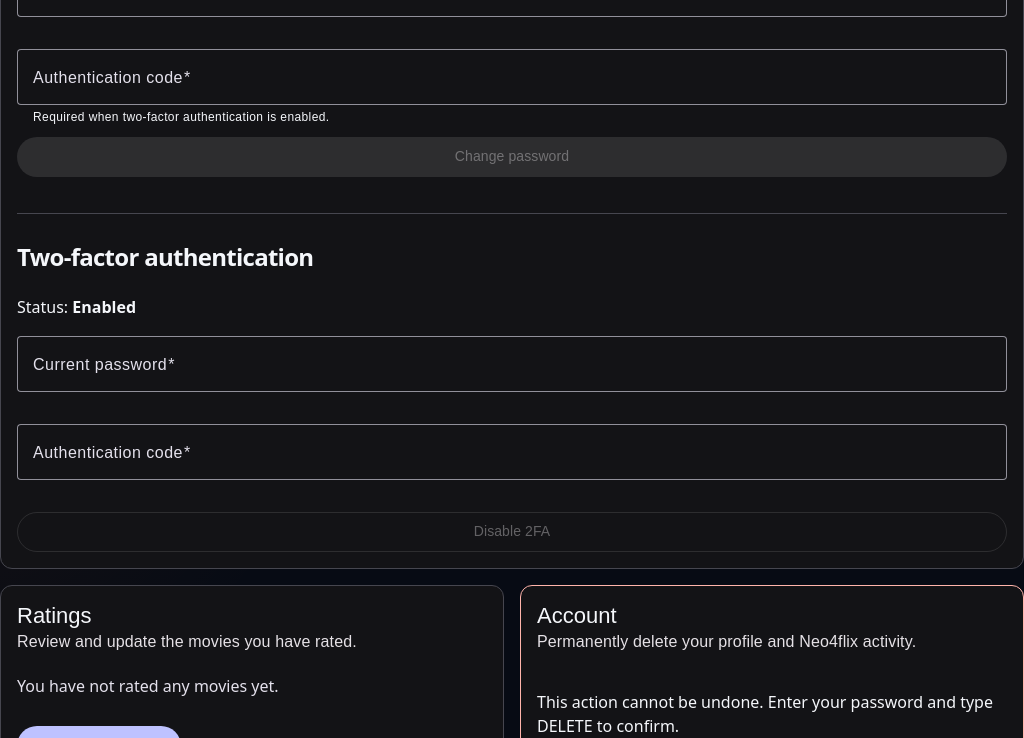
Test case: ProfileComponent › renders TOTP disable API failures in the security error region
The width and height of the screenshot is (1024, 738).
(page scrolled)
Type "Password1!" into the password field with test id "disable-password" at {"x": 512, "y": 364}, box [33,352,991,376]
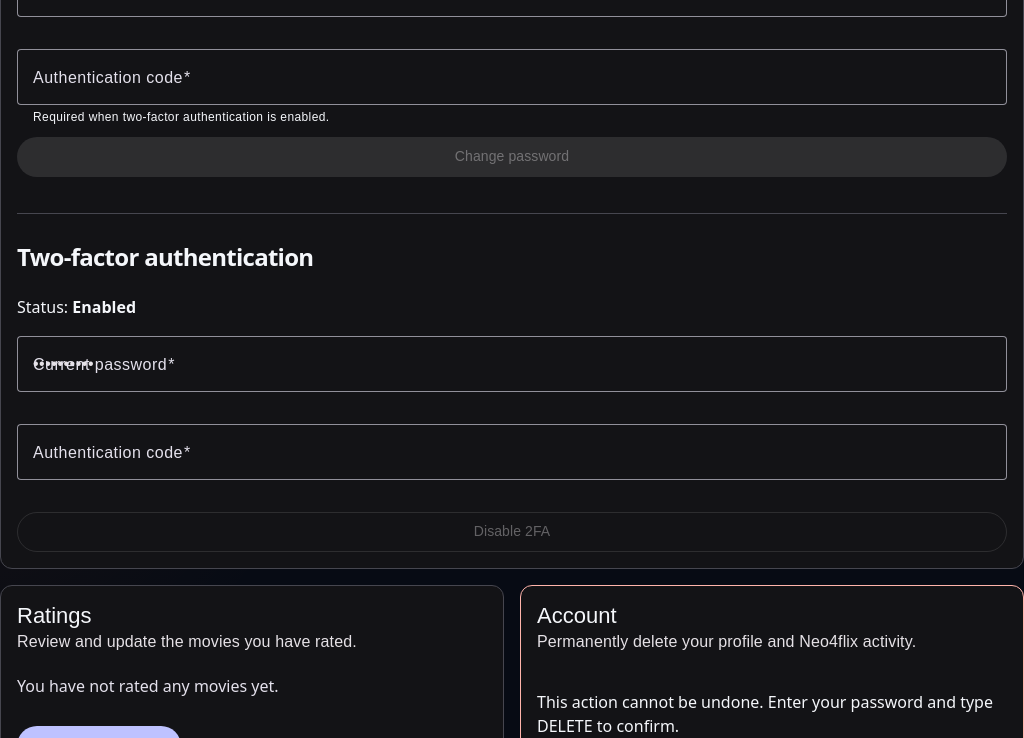
Type "428193" into the field with test id "disable-totp-code" at {"x": 512, "y": 452}, box [33,440,991,464]
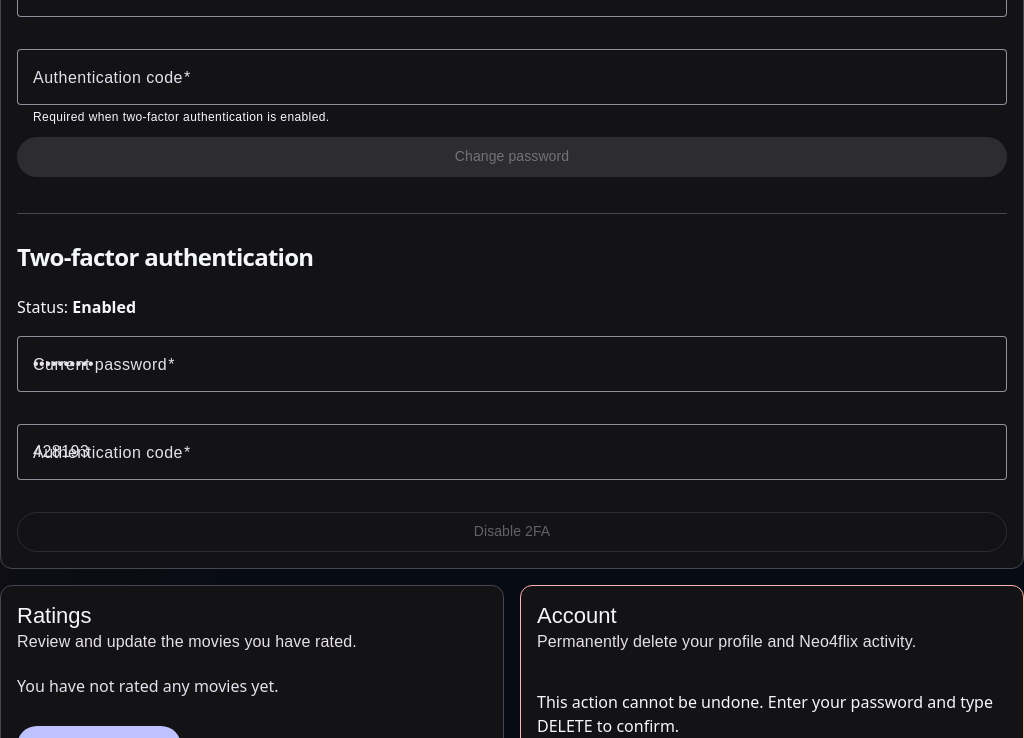
Submit the form with test id "disable-2fa-form", box [17,336,1007,552]
(page scrolled)
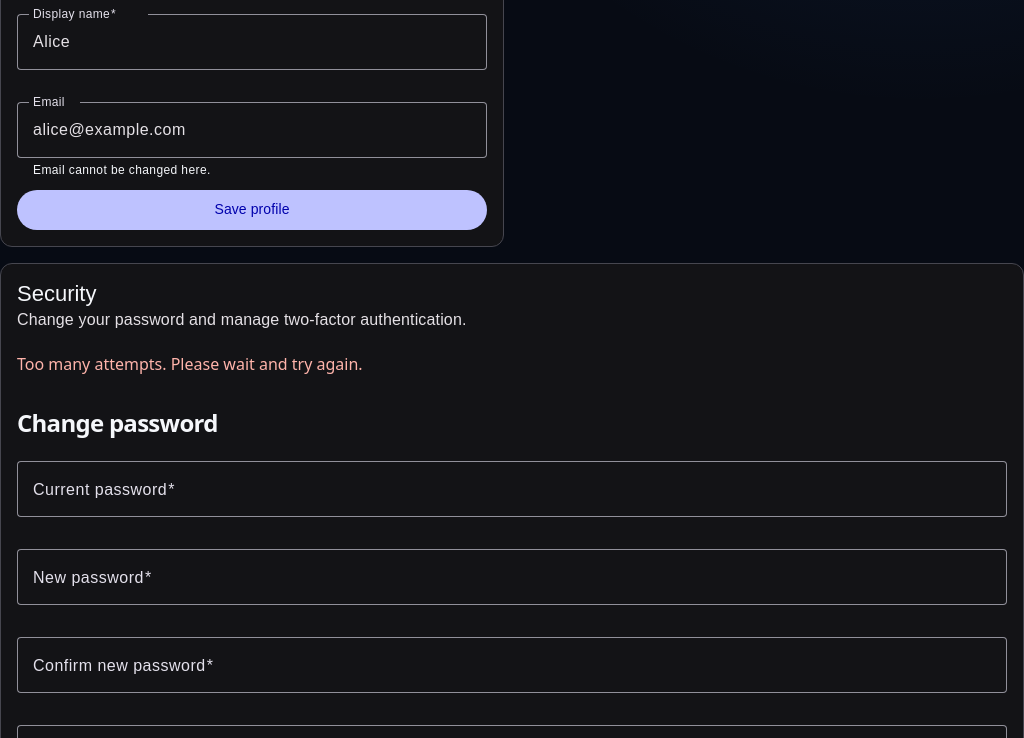
Check: the message with class "error" shows "Too many attempts.", box [17,353,363,375]
